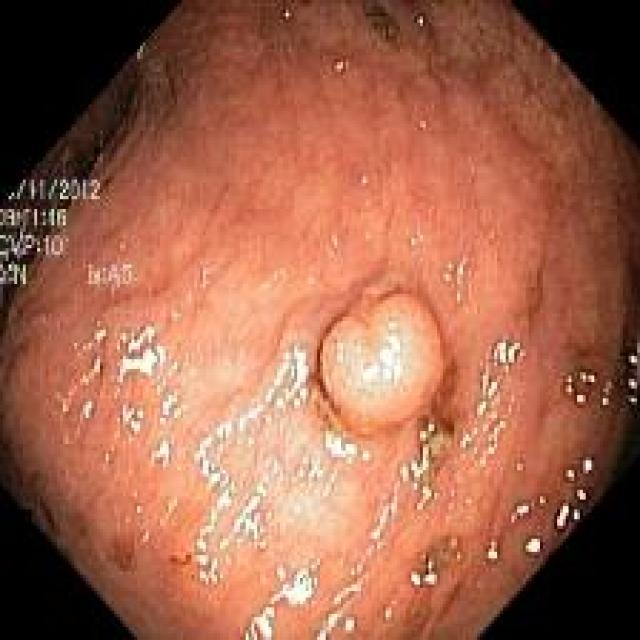Polyps: (321, 293, 444, 436)
